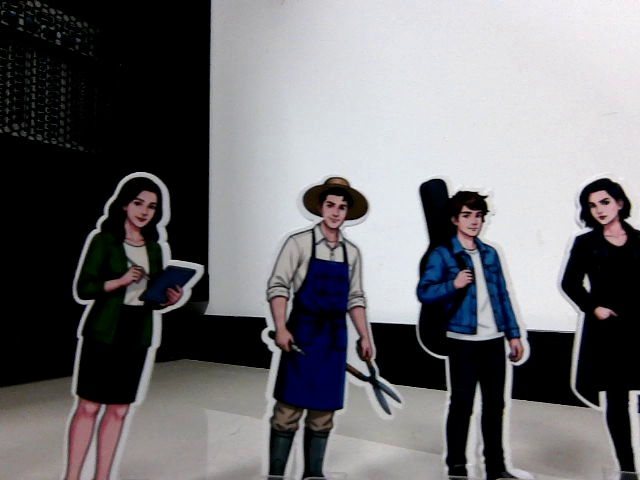community_person: (249, 168, 409, 480), (55, 163, 205, 480), (406, 172, 538, 480), (550, 167, 640, 480)
